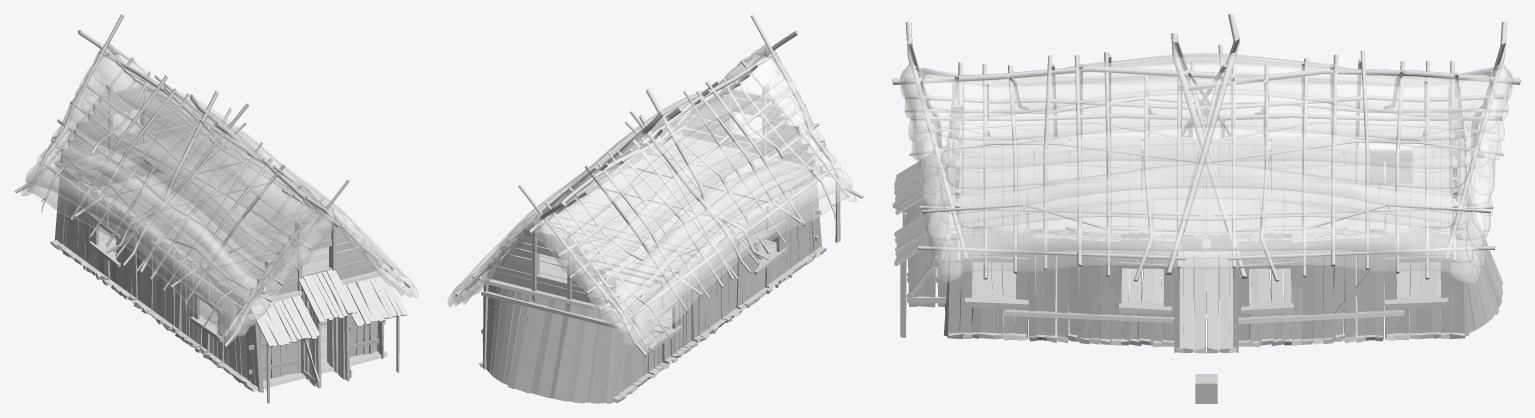
File: House.glb
3 views of the same model, side by side, from view 1: azimuth 30°, elevation 25°; view 2: azimuth 150°, elevation 25°; view 3: azimuth 270°, elevation 25° (orthographic). The views are drawn at different scales.
Parts seen in each view (by area): view 1: barn.001, thatch_with_opacity.001; view 2: barn.001, thatch_with_opacity.001; view 3: barn.001, thatch_with_opacity.001, Cube.
Part boxes in pixels (box(x1,y1,x2,y2)): barn.001: box(14, 14, 410, 403); thatch_with_opacity.001: box(21, 43, 418, 344); barn.001: box(455, 14, 863, 403); thatch_with_opacity.001: box(447, 44, 856, 354); barn.001: box(892, 14, 1520, 353); thatch_with_opacity.001: box(900, 52, 1512, 283); Cube: box(1195, 374, 1217, 403).
Size of the model in its own units: 35.02 by 27.33 by 55.78.
Materials: 2 (1 with a texture image).
